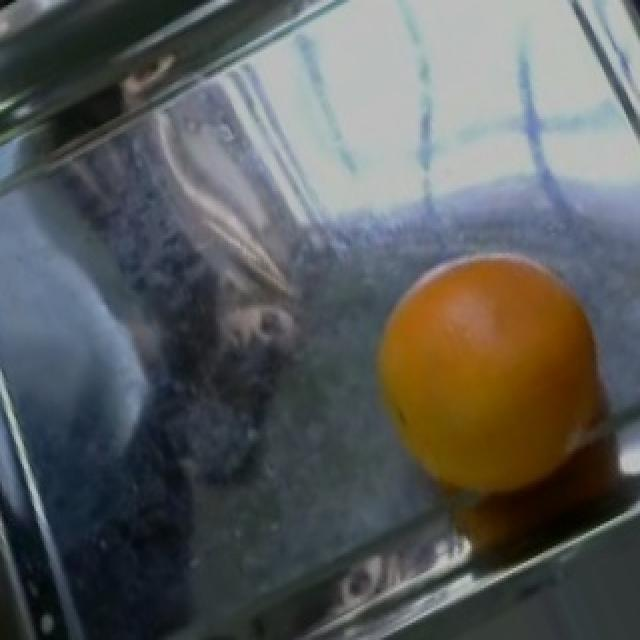Fruit: (362, 233, 632, 519)
